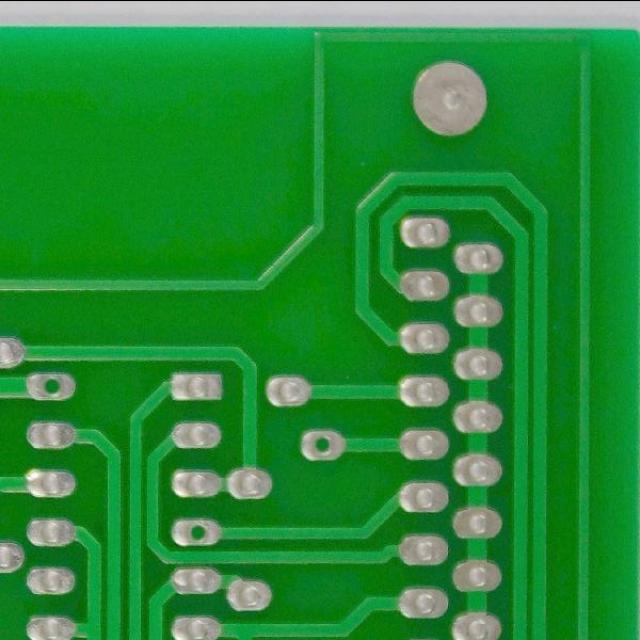missing_hole: (31, 369, 70, 403), (306, 428, 340, 458), (183, 518, 216, 548)
